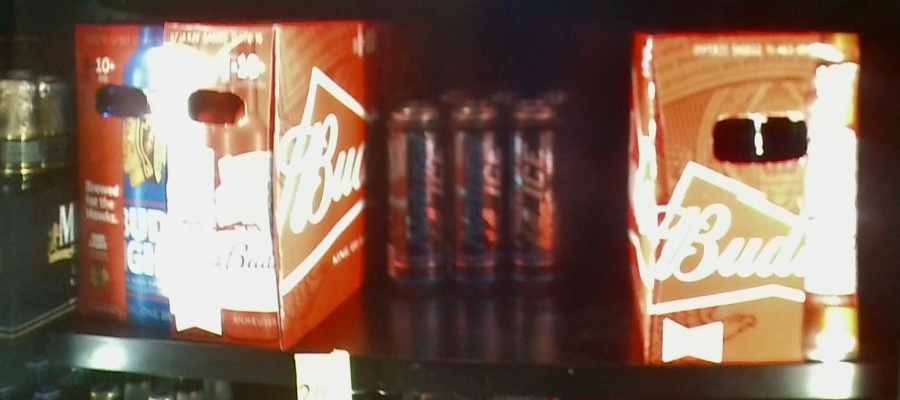bottle: (74, 26, 369, 312), (631, 26, 858, 365), (395, 107, 564, 287)
